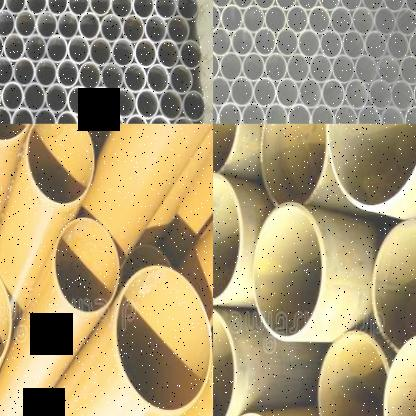pipe: (116, 265, 212, 412), (254, 202, 326, 342), (325, 123, 416, 211), (54, 218, 120, 313), (318, 330, 390, 416), (371, 218, 416, 353), (258, 124, 328, 207), (28, 124, 96, 206), (213, 172, 243, 304), (382, 332, 416, 416), (213, 305, 237, 416), (213, 124, 241, 178), (275, 77, 300, 109), (0, 123, 33, 147), (321, 79, 346, 110), (344, 79, 369, 110), (253, 77, 277, 109), (368, 79, 392, 111), (298, 79, 323, 109), (67, 86, 91, 117), (123, 63, 147, 94), (89, 37, 113, 68), (56, 59, 80, 90), (159, 90, 183, 121), (182, 91, 206, 122), (264, 52, 288, 83), (230, 77, 254, 108), (391, 80, 414, 112), (45, 84, 69, 114), (169, 65, 193, 95), (146, 64, 170, 94), (364, 30, 388, 60), (136, 89, 159, 120), (79, 61, 102, 92), (101, 62, 124, 93), (90, 87, 113, 118), (113, 88, 136, 119), (157, 39, 180, 70), (220, 51, 243, 82), (355, 54, 378, 85), (179, 41, 203, 70), (166, 16, 190, 45), (275, 28, 299, 57), (297, 29, 321, 58), (220, 4, 244, 33), (253, 28, 277, 57), (351, 7, 375, 36), (307, 6, 331, 35), (67, 35, 90, 65), (1, 82, 24, 112), (134, 39, 157, 69), (144, 15, 167, 45), (242, 52, 265, 82), (287, 53, 310, 83), (332, 54, 355, 84), (342, 30, 365, 60), (330, 6, 353, 36), (309, 54, 332, 84), (377, 55, 400, 85), (112, 39, 135, 68), (13, 58, 36, 87), (100, 14, 123, 43), (24, 34, 47, 63), (122, 15, 145, 44), (320, 30, 343, 59), (231, 28, 254, 57), (386, 31, 409, 60), (35, 58, 57, 88), (24, 83, 46, 113), (79, 12, 101, 42), (57, 11, 79, 41), (242, 5, 265, 33), (286, 6, 309, 34), (46, 35, 68, 64), (3, 33, 25, 62), (264, 6, 287, 33), (15, 11, 37, 39), (374, 8, 396, 36), (394, 8, 416, 36), (36, 11, 57, 40), (240, 102, 265, 124), (218, 102, 242, 124), (264, 102, 288, 124), (213, 76, 230, 107), (310, 103, 335, 124), (287, 103, 312, 124), (213, 27, 231, 56), (399, 55, 416, 85), (357, 104, 382, 124), (334, 104, 358, 124), (380, 105, 405, 124), (175, 0, 197, 20), (154, 0, 176, 20), (131, 0, 154, 19), (0, 10, 15, 38), (0, 57, 14, 86), (110, 0, 131, 19), (11, 108, 35, 124), (89, 0, 110, 18), (67, 0, 89, 17), (33, 108, 56, 124), (47, 0, 68, 16), (25, 0, 47, 15), (5, 0, 26, 15), (56, 110, 78, 124), (78, 112, 102, 124), (361, 0, 384, 12), (382, 0, 405, 12), (101, 113, 125, 124), (296, 0, 319, 11), (340, 0, 362, 11), (408, 31, 416, 60), (125, 114, 148, 124), (317, 0, 340, 10), (404, 105, 416, 124), (148, 115, 173, 124), (213, 3, 221, 31), (275, 0, 296, 10), (231, 0, 254, 9), (0, 107, 12, 124), (213, 52, 220, 81), (171, 116, 196, 124), (254, 0, 276, 9), (213, 0, 232, 9), (404, 0, 416, 13), (412, 79, 416, 111), (0, 32, 4, 61)
